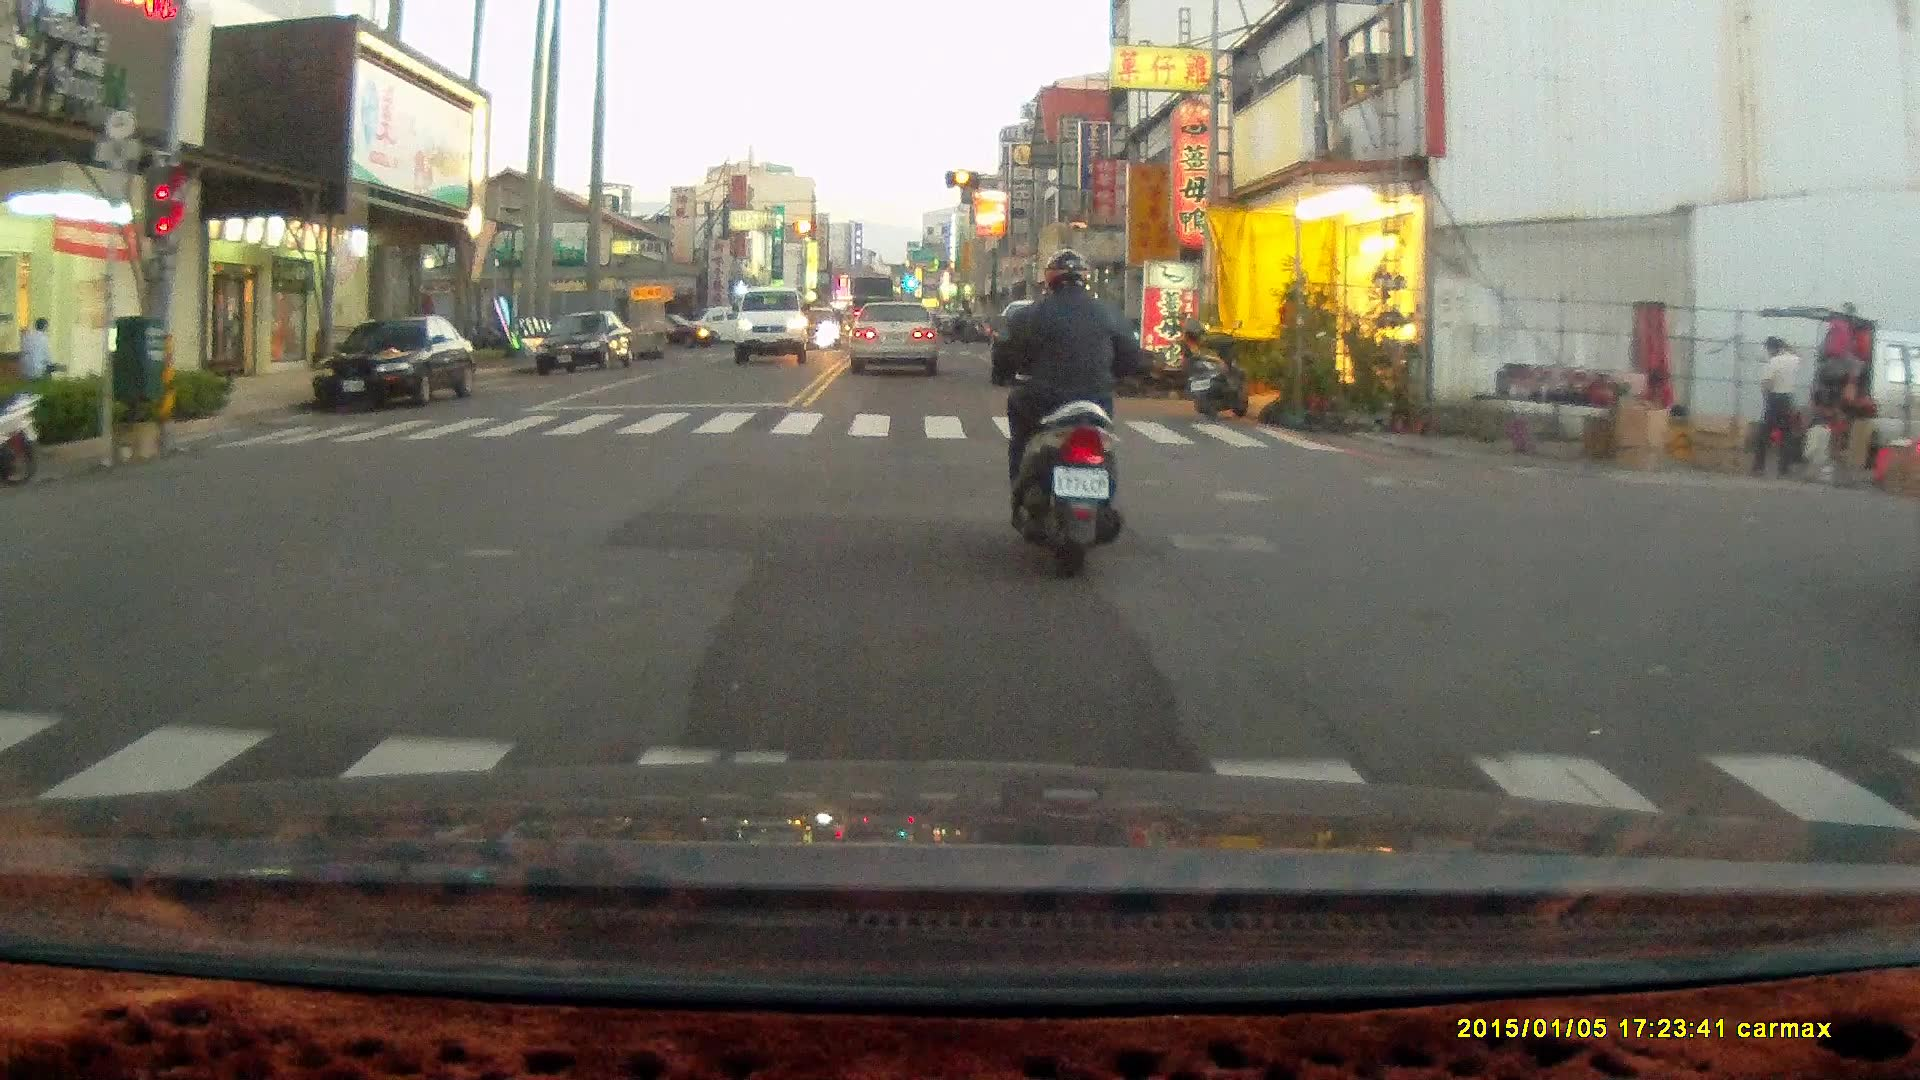pedestrian: (1749, 337, 1801, 482), (23, 314, 54, 391)
rider: (987, 247, 1138, 578)
vehicle: (309, 315, 476, 413), (851, 301, 945, 374), (536, 309, 634, 377), (734, 287, 810, 365)
